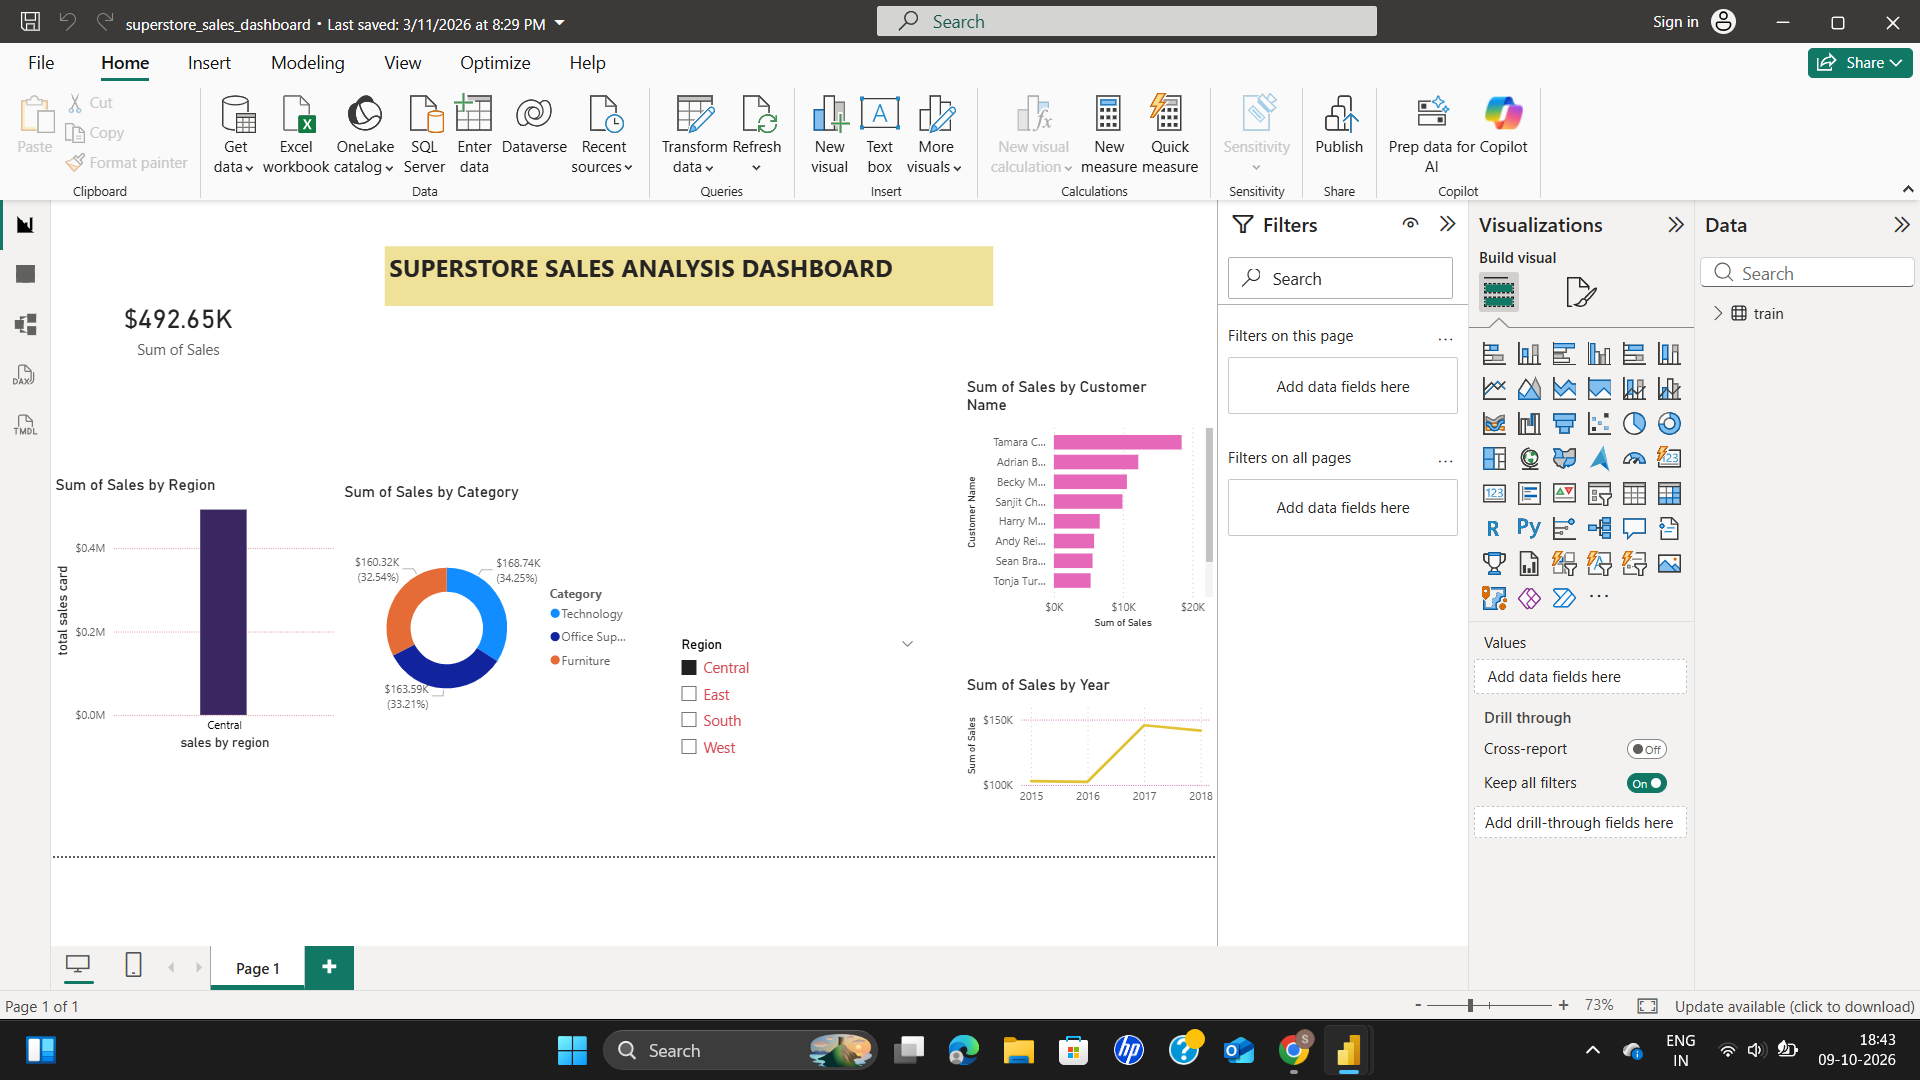

What the dashboard file says about the page in this screenshot:
{"tool":"powerbi","page":{"name":"Page 1","canvas":[1280,720],"ordinal":0},"visuals":[{"type":"card","fields":{"Values":["Sum(train.Sales)"]},"box":[0,0,279.9,279.9],"z":0},{"type":"clusteredColumnChart","fields":{"Category":["train.Region"],"Y":["Sum(train.Sales)"]},"box":[0,301.9,317,307.4],"z":1000},{"type":"donutChart","fields":{"Category":["train.Category"],"Y":["Sum(train.Sales)"]},"box":[317,310.1,333.4,299.1],"z":2000},{"type":"lineChart","fields":{"Category":["train.Order Date.Variation.Date Hierarchy.Year","train.Order Date.Variation.Date Hierarchy.Quarter","train.Order Date.Variation.Date Hierarchy.Month","train.Order Date.Variation.Date Hierarchy.Day"],"Y":["Sum(train.Sales)"]},"box":[1000.3,521.4,279.9,150.9],"z":3000},{"type":"clusteredBarChart","fields":{"Category":["train.Customer Name"],"Y":["Sum(train.Sales)"]},"box":[1000.3,194.9,279.9,279.9],"z":4000},{"type":"slicer","fields":{"Values":["train.Region"]},"box":[679.2,474.8,279.9,150.9],"z":5000},{"type":"textbox","box":[366.4,50.8,668.3,65.9],"z":6000}]}

Visuals, with their boxes on the page's 1280x720 design canvas (x1, y1, x2, y2). These are canvas units, not pixel positions in the 1920x1080 screenshot, which may show the page scaled, cropped or inside an application window:
card - Sum(train.Sales): 0, 0, 280, 280
clusteredColumnChart - train.Region x Sum(train.Sales): 0, 302, 317, 609
donutChart - train.Category x Sum(train.Sales): 317, 310, 650, 609
lineChart - train.Order Date.Variation.Date Hierarchy.Year x train.Order Date.Variation.Date Hierarchy.Quarter: 1000, 521, 1280, 672
clusteredBarChart - train.Customer Name x Sum(train.Sales): 1000, 195, 1280, 475
slicer - train.Region: 679, 475, 959, 626
textbox: 366, 51, 1035, 117
